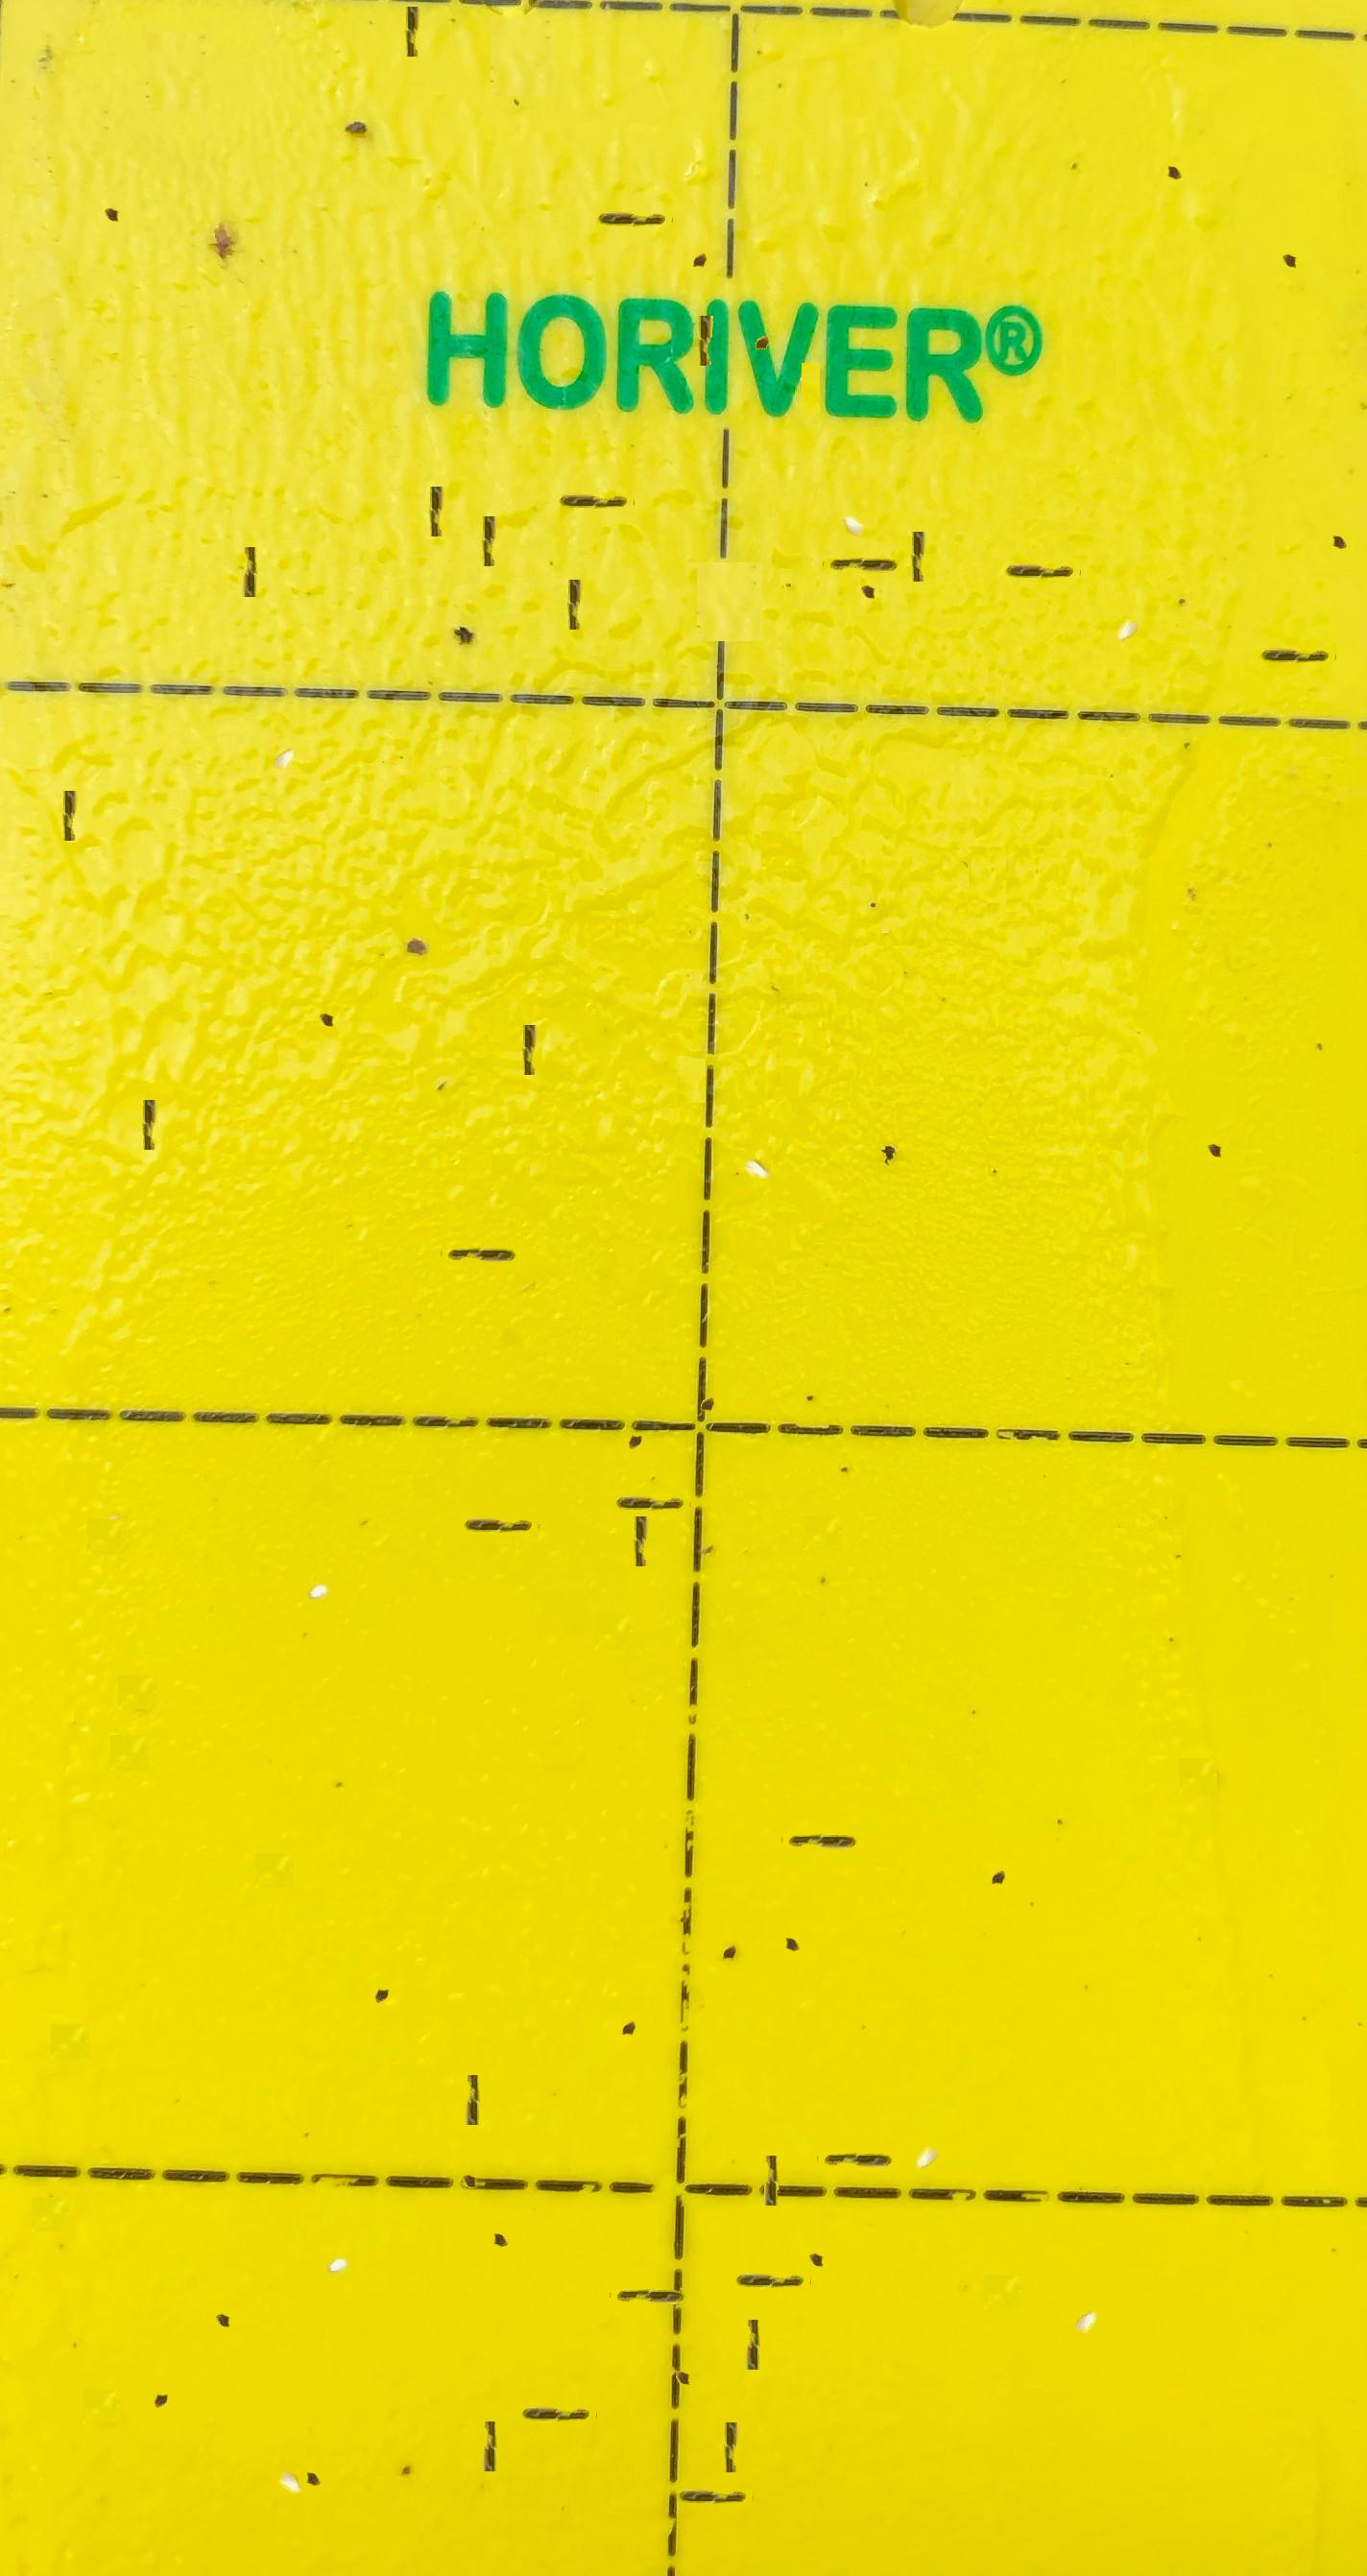white_fly: (317, 2194, 360, 2242), (298, 1520, 341, 1567), (733, 1102, 776, 1148), (262, 695, 305, 739), (1106, 564, 1149, 608), (833, 462, 876, 504), (269, 2416, 310, 2460), (1065, 2259, 1106, 2302), (907, 2092, 948, 2135)
